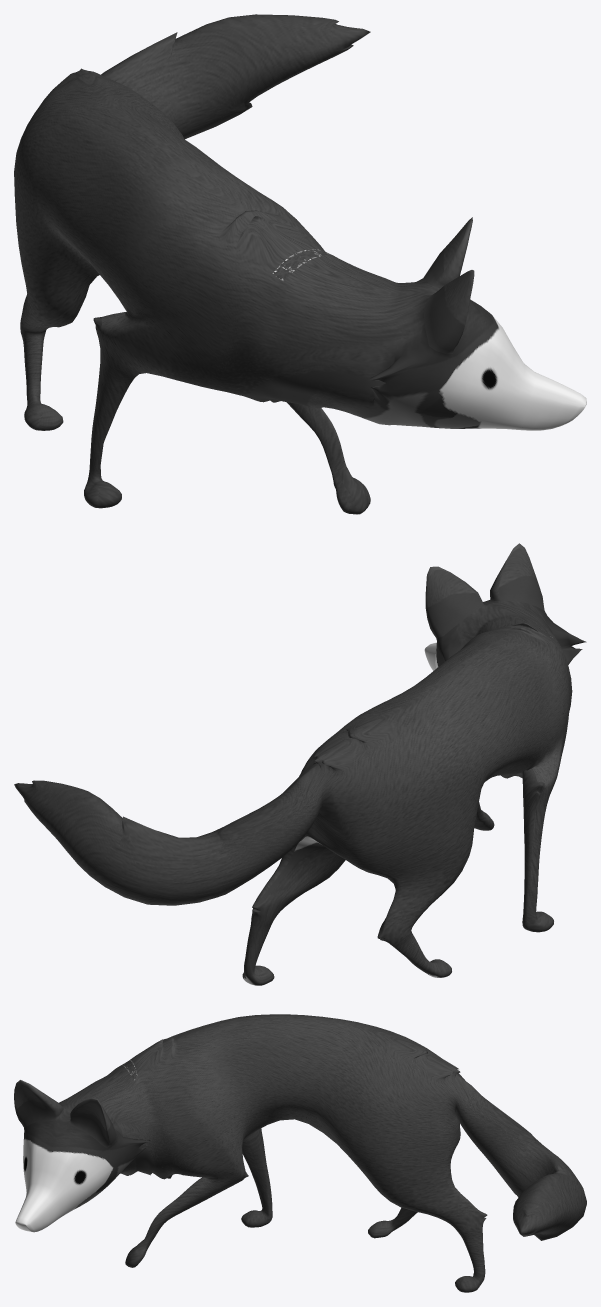
Rendered from zorra_gris.fbx.
3 renders of one model, top to bottom at view 1: azimuth 30°, elevation 25°; view 2: azimuth 150°, elevation 25°; view 3: azimuth 270°, elevation 25°, orthographic. The views are drawn at different scales.
Parts seen in each view (by area): view 1: FoxPose; view 2: FoxPose; view 3: FoxPose.
Part boxes in pixels (box(x1,y1,x2,y2)): FoxPose: box(14, 14, 586, 514); FoxPose: box(14, 543, 586, 985); FoxPose: box(14, 1014, 586, 1292).
Bounding box in the file's own units: 535 × 361 × 818.
1 material, 1 textured.
